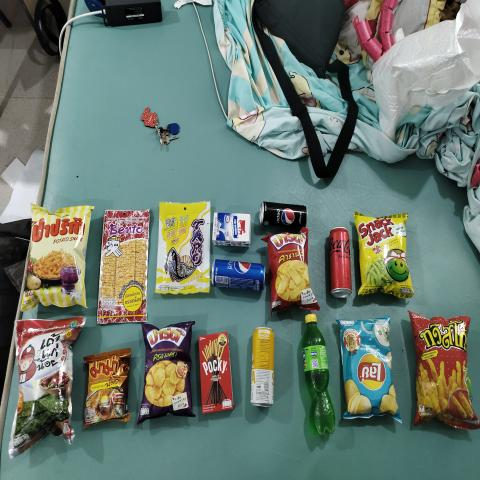bento_red: (104, 206, 148, 320)
coke_red: (332, 228, 351, 294)
fanta_green: (302, 313, 336, 437)
lay_blue: (344, 320, 391, 414)
mama: (88, 355, 123, 418)
paprika: (33, 213, 86, 305)
party_purple: (147, 329, 187, 408)
party_red: (269, 230, 309, 300)
pepsi_black: (259, 201, 308, 224)
pepsi_blue: (210, 257, 269, 297)
pokki: (198, 334, 231, 410)
snack_jack: (360, 216, 406, 284)
taokaenoi: (17, 324, 67, 432)
taro_yellow: (160, 204, 207, 292)
thai_denmark: (211, 213, 251, 245)
twisco: (420, 320, 466, 414)
